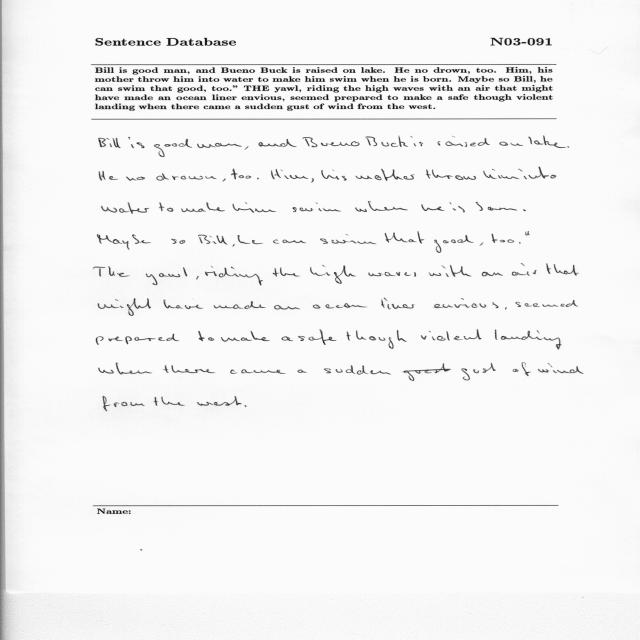word: (402, 363, 496, 381), (495, 330, 562, 350), (347, 330, 407, 349), (205, 266, 263, 285), (98, 298, 151, 316), (96, 334, 179, 345), (310, 265, 356, 284), (97, 234, 151, 249), (146, 267, 187, 285), (434, 235, 474, 253), (356, 169, 415, 181), (154, 139, 192, 157), (324, 365, 391, 375), (421, 330, 481, 341), (434, 298, 499, 308), (99, 363, 152, 375), (103, 396, 145, 411), (355, 201, 408, 212), (102, 202, 150, 214), (438, 136, 490, 147), (303, 137, 360, 147), (320, 234, 377, 244), (298, 330, 336, 345), (426, 169, 476, 180), (221, 331, 270, 342), (429, 265, 472, 277), (538, 363, 584, 374), (385, 232, 425, 244), (365, 136, 408, 147), (233, 202, 276, 213), (518, 167, 556, 179), (197, 396, 242, 406), (529, 136, 566, 148), (515, 300, 578, 307), (181, 202, 225, 212), (293, 203, 341, 212), (157, 174, 217, 181), (214, 301, 266, 309), (163, 365, 215, 373), (93, 266, 130, 277), (546, 264, 579, 276), (476, 202, 518, 211), (381, 298, 415, 309), (271, 169, 308, 179), (483, 169, 519, 179), (163, 300, 203, 309), (512, 263, 537, 276), (313, 303, 367, 309), (259, 139, 297, 147), (198, 235, 227, 245), (321, 170, 347, 181), (154, 397, 185, 406), (230, 369, 285, 374), (512, 363, 531, 376), (273, 268, 300, 277), (368, 272, 416, 277), (197, 143, 242, 148), (238, 235, 263, 244), (99, 138, 121, 148), (231, 169, 251, 180), (492, 234, 514, 243), (99, 171, 118, 181), (128, 137, 145, 148), (273, 239, 306, 244), (422, 204, 445, 211), (449, 203, 465, 213), (199, 331, 215, 341), (410, 136, 423, 146), (159, 203, 173, 212), (274, 305, 300, 309), (500, 142, 524, 146), (482, 272, 503, 276), (126, 177, 145, 181), (172, 239, 186, 244), (281, 337, 293, 341), (297, 369, 307, 373), (525, 232, 530, 236), (245, 146, 249, 150), (480, 242, 484, 246), (311, 178, 314, 183), (222, 179, 226, 182), (232, 244, 235, 247), (196, 276, 199, 279), (523, 210, 526, 212), (505, 307, 507, 310), (567, 146, 569, 148), (257, 178, 259, 180), (519, 242, 521, 244), (245, 405, 247, 407)
